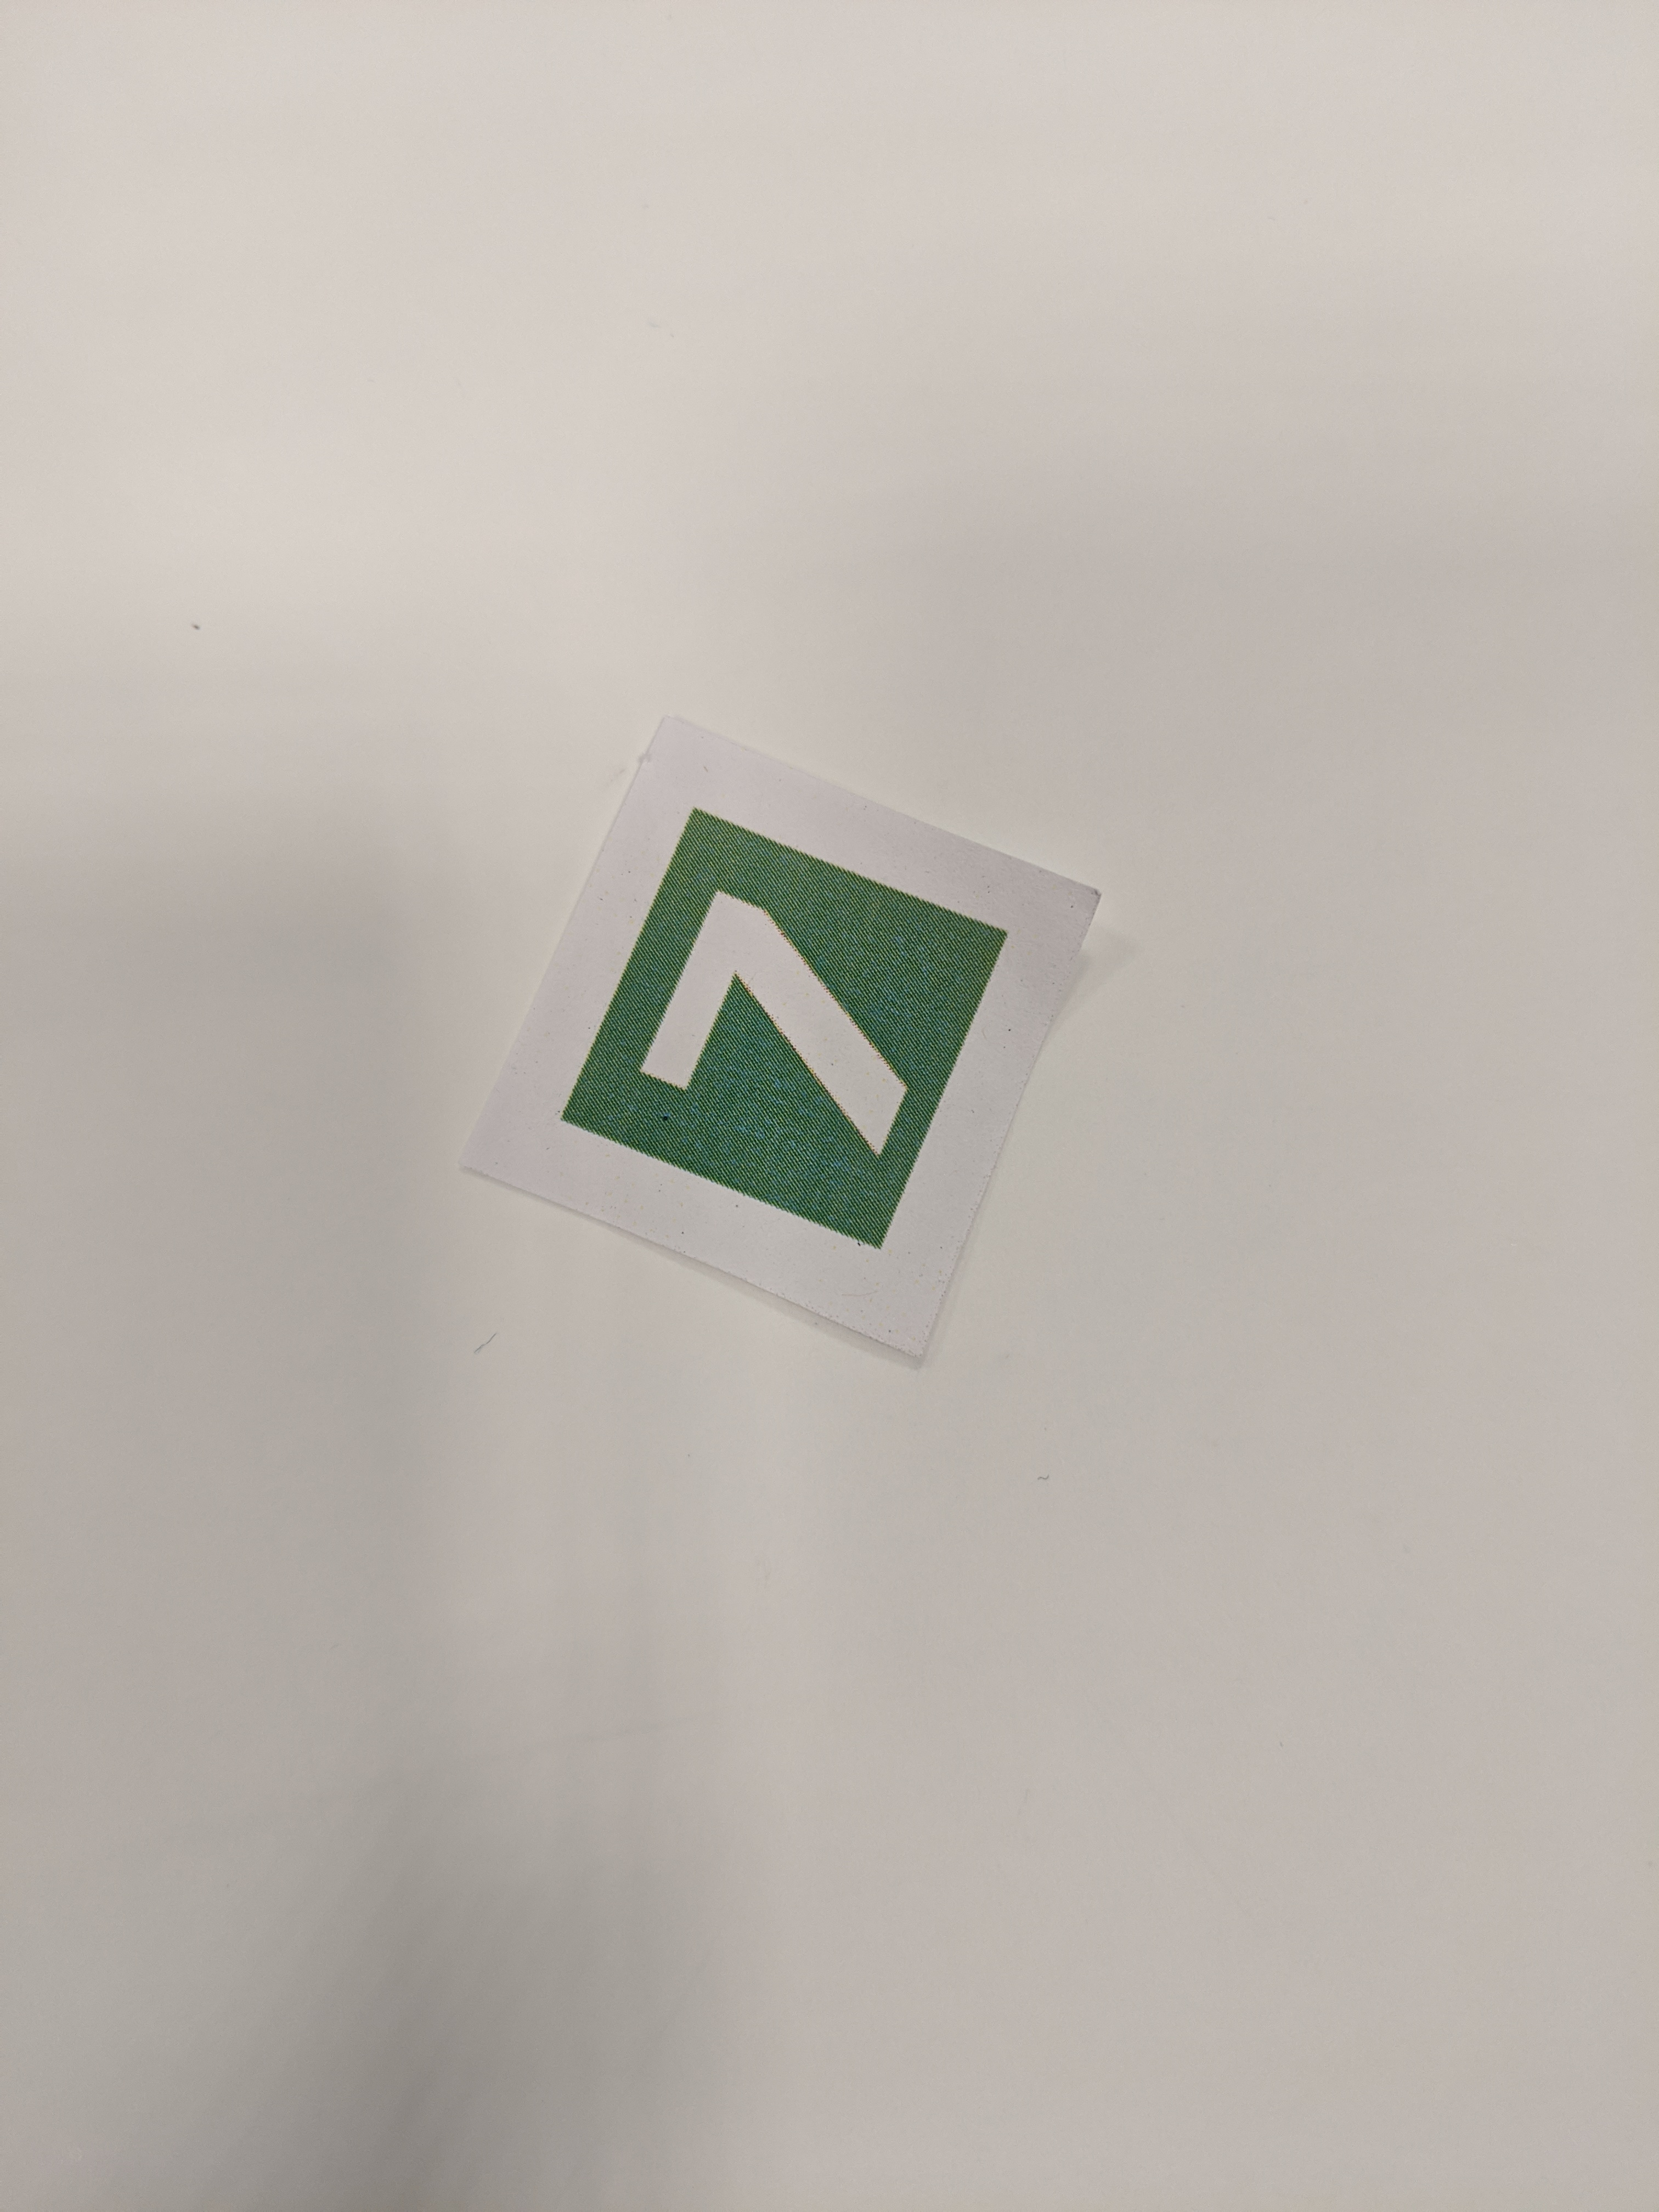marker: (444, 714, 1100, 1404)
